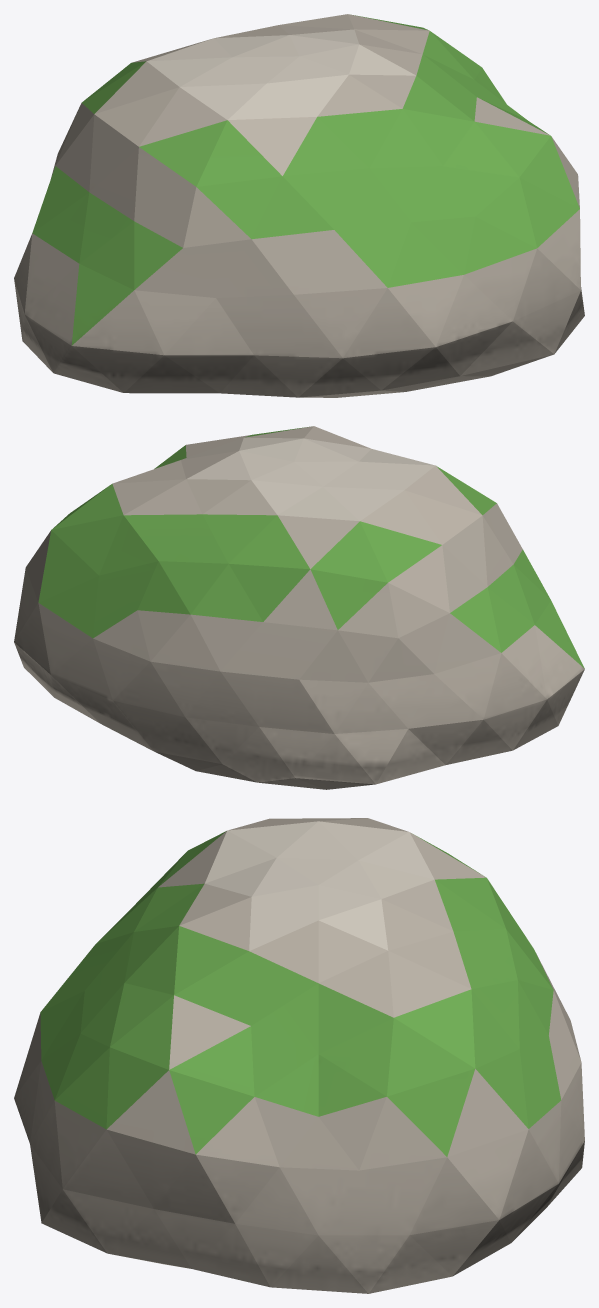
The model's file is rock_large.glb.
3 views of the same model, one above another, from view 1: azimuth 30°, elevation 25°; view 2: azimuth 150°, elevation 25°; view 3: azimuth 270°, elevation 25° (orthographic). The views are drawn at different scales.
Visible parts, largest first — view 1: rock_large; view 2: rock_large; view 3: rock_large.
Part boxes in pixels (x1,y1,x2,y2): rock_large: (14,14,584,397); rock_large: (14,426,584,789); rock_large: (14,818,584,1293).
Size of the model in its own units: 1.19 by 0.5885 by 0.9827.
Materials: 3 (3 with a texture image).
